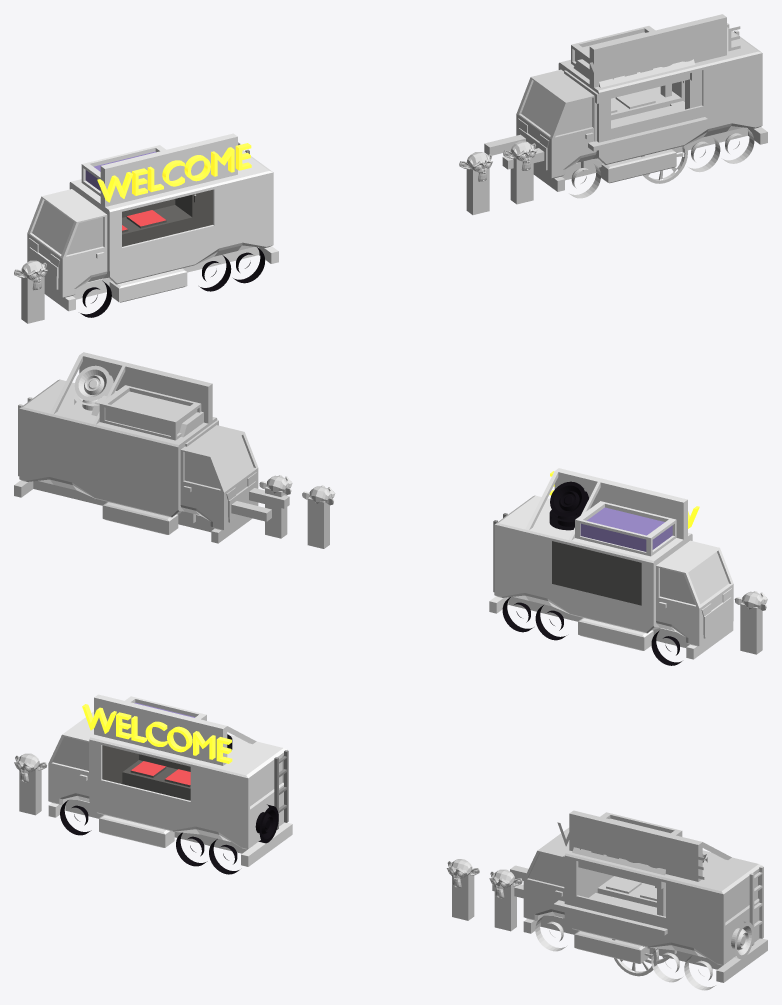
File: foodTruck.gltf
The picture shows the model from 3 angles, top to bottom: view 1: azimuth 30°, elevation 25°; view 2: azimuth 150°, elevation 25°; view 3: azimuth 330°, elevation 25°; orthographic projection. The views are drawn at different scales.
Parts seen in each view (by area): view 1: Cube, Cube.003, Food Truck, Plane, Cube.005, Cube.006, Cube.002, Text, Text.001; view 2: Cube, Cube.003, Food Truck, Plane, Cube.006, Cube.005, Cube.002, Circle.005, Circle.011; view 3: Cube, Food Truck, Cube.003, Plane, Cube.005, Cube.006, Cube.002, Text, Text.001, Cube.001, Circle.004.
Part boxes in pixels (box(x1,y1,x2,y2)): Cube: box(516, 14, 767, 191); Cube.003: box(27, 133, 278, 310); Food Truck: box(29, 138, 278, 317); Plane: box(484, 59, 707, 171); Cube.005: box(14, 260, 47, 323); Cube.006: box(459, 152, 492, 214); Cube.002: box(503, 141, 536, 204); Text: box(590, 26, 740, 83); Text.001: box(100, 145, 251, 202); Cube: box(14, 352, 258, 543); Cube.003: box(489, 468, 733, 659); Food Truck: box(489, 468, 730, 665); Plane: box(82, 391, 289, 523); Cube.006: box(302, 485, 335, 548); Cube.005: box(734, 591, 767, 654); Cube.002: box(259, 475, 292, 538); Circle.005: box(74, 365, 113, 400); Circle.011: box(550, 481, 588, 516); Cube: box(523, 810, 767, 982); Food Truck: box(48, 695, 292, 874); Cube.003: box(48, 694, 289, 866); Plane: box(492, 847, 676, 954); Cube.005: box(14, 753, 46, 815); Cube.006: box(446, 859, 479, 920); Cube.002: box(489, 869, 522, 931); Text: box(557, 822, 704, 879); Text.001: box(82, 706, 228, 763); Cube.001: box(749, 866, 763, 945); Circle.004: box(731, 920, 753, 959).
Size of the model in its own units: 46.21 by 8.79 by 4.92.
